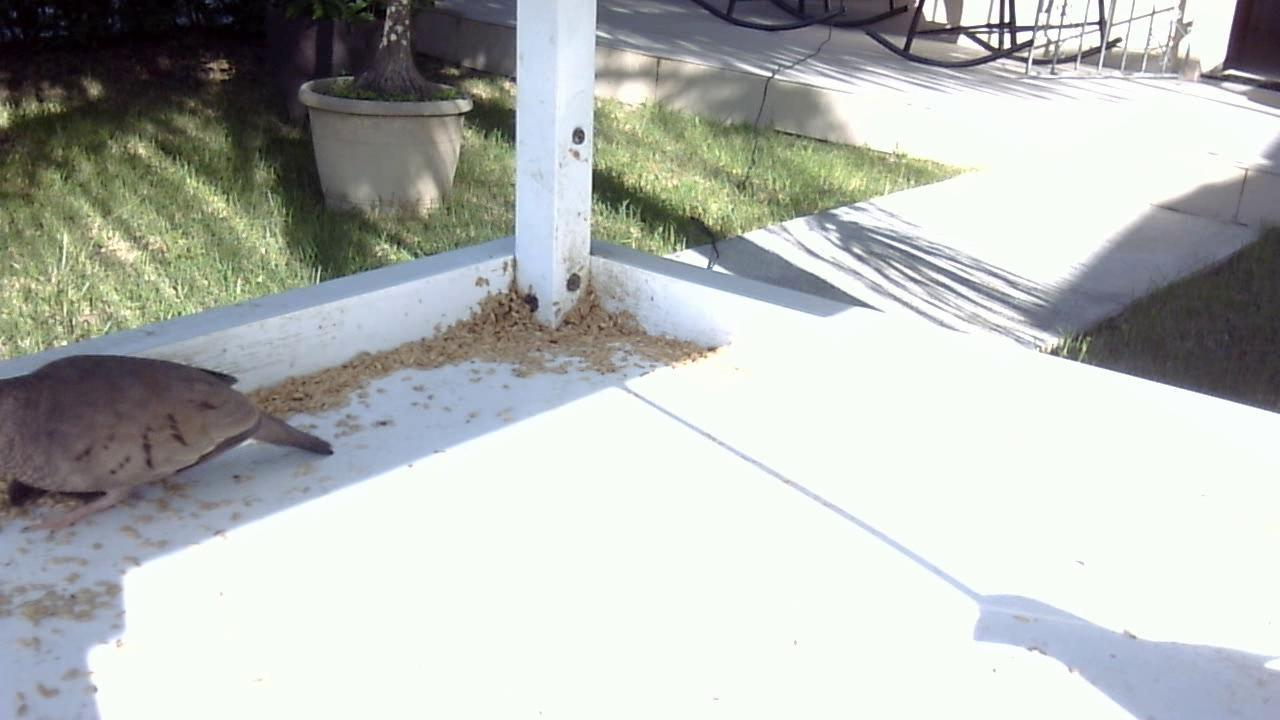rolinha: (1, 337, 342, 530)
